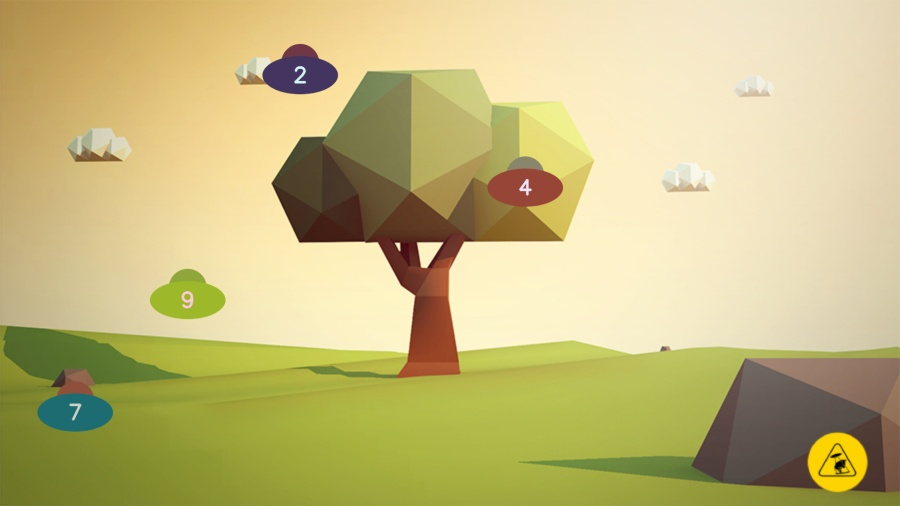ufo: (261, 43, 339, 95), (150, 268, 226, 320), (488, 156, 564, 208), (37, 385, 113, 432)
